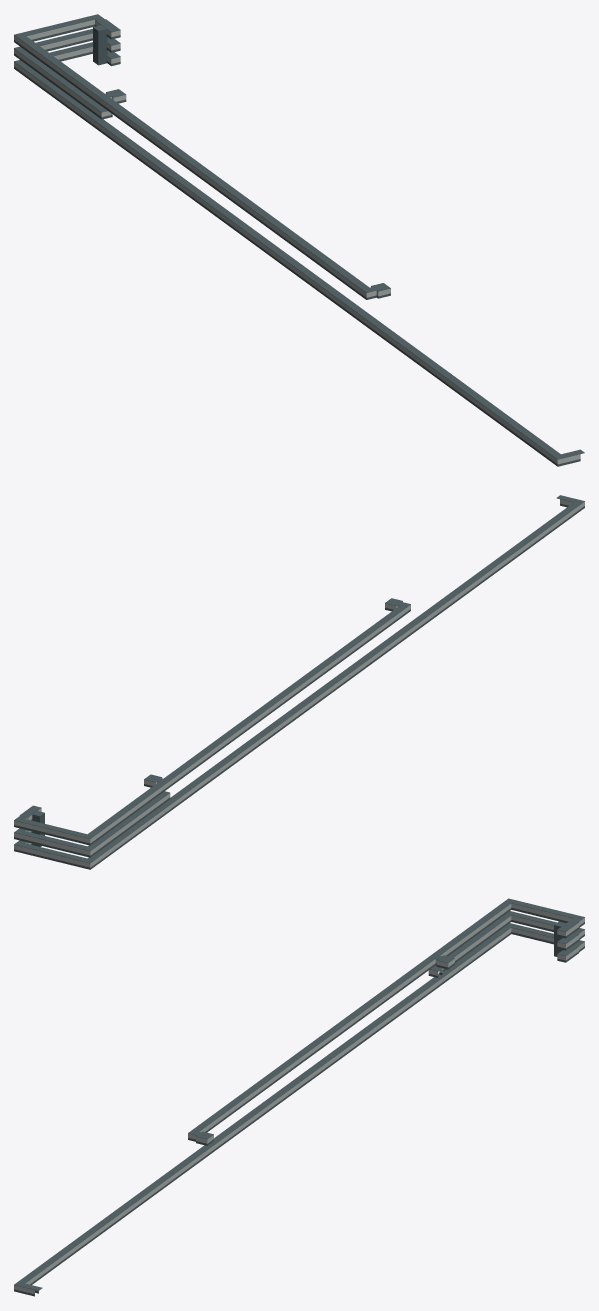
File: AST-STF-009.glb
3 views of the same model, one above another, from view 1: azimuth 30°, elevation 25°; view 2: azimuth 150°, elevation 25°; view 3: azimuth 330°, elevation 25° (orthographic). The views are drawn at different scales.
Size of the model in its own units: 40 by 15.58 by 444.
Materials: 5 (5 with a texture image).
